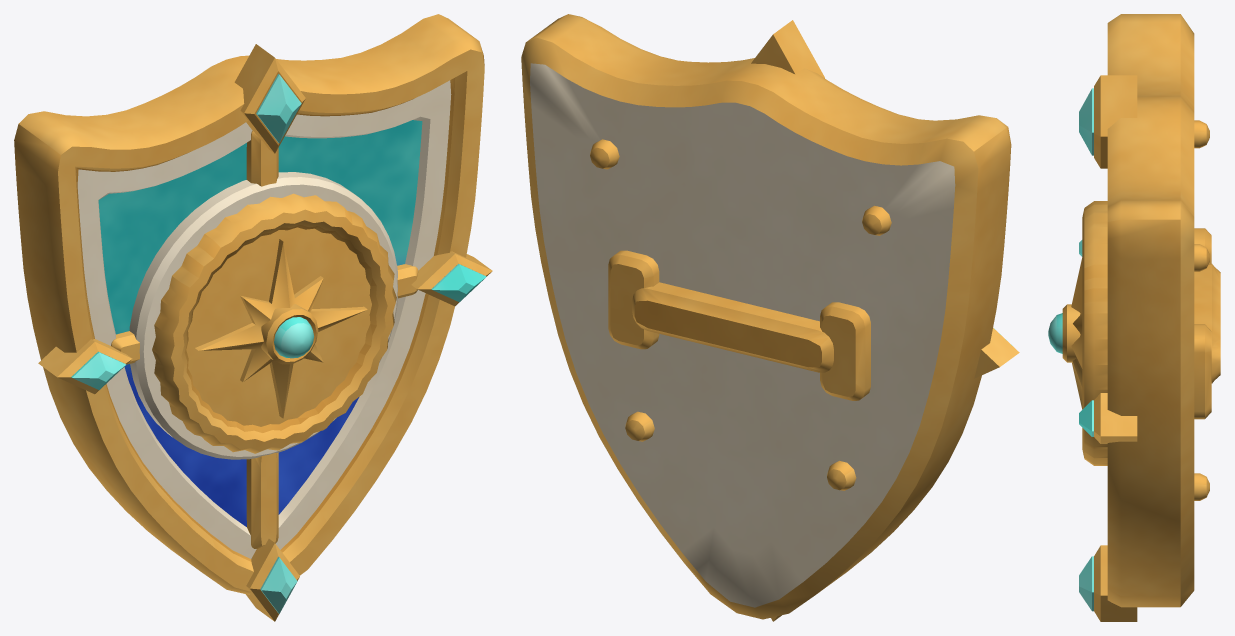
File: CoinShield_v001.fbx
3 renders of one model, left to right at view 1: azimuth 30°, elevation 25°; view 2: azimuth 150°, elevation 25°; view 3: azimuth 270°, elevation 25°, orthographic. The views are drawn at different scales.
Parts seen in each view (by area): view 1: CoinShield_Body, CoinShield_Coin; view 2: CoinShield_Body; view 3: CoinShield_Body, CoinShield_Coin.
Part boxes in pixels (box(x1,y1,x2,y2)): CoinShield_Body: box(14, 14, 492, 621); CoinShield_Coin: box(129, 172, 397, 459); CoinShield_Body: box(521, 14, 1019, 621); CoinShield_Body: box(1079, 14, 1220, 621); CoinShield_Coin: box(1048, 201, 1107, 465).
Bounding box in the file's own units: 0.8348 × 1.03 × 0.2933.
Materials: 1 (1 with a texture image).
